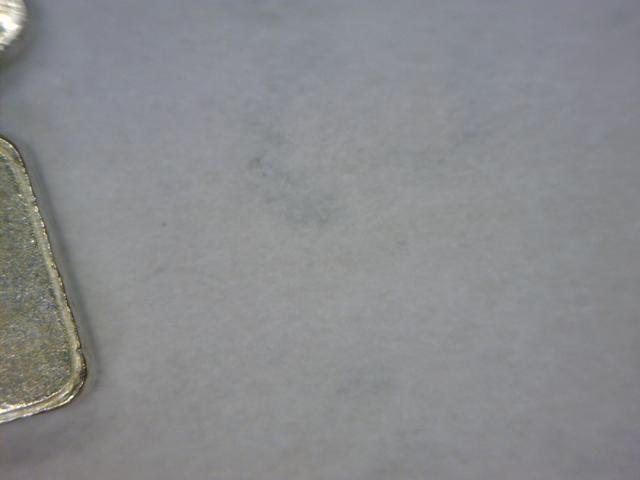nok: (1, 124, 111, 446)
